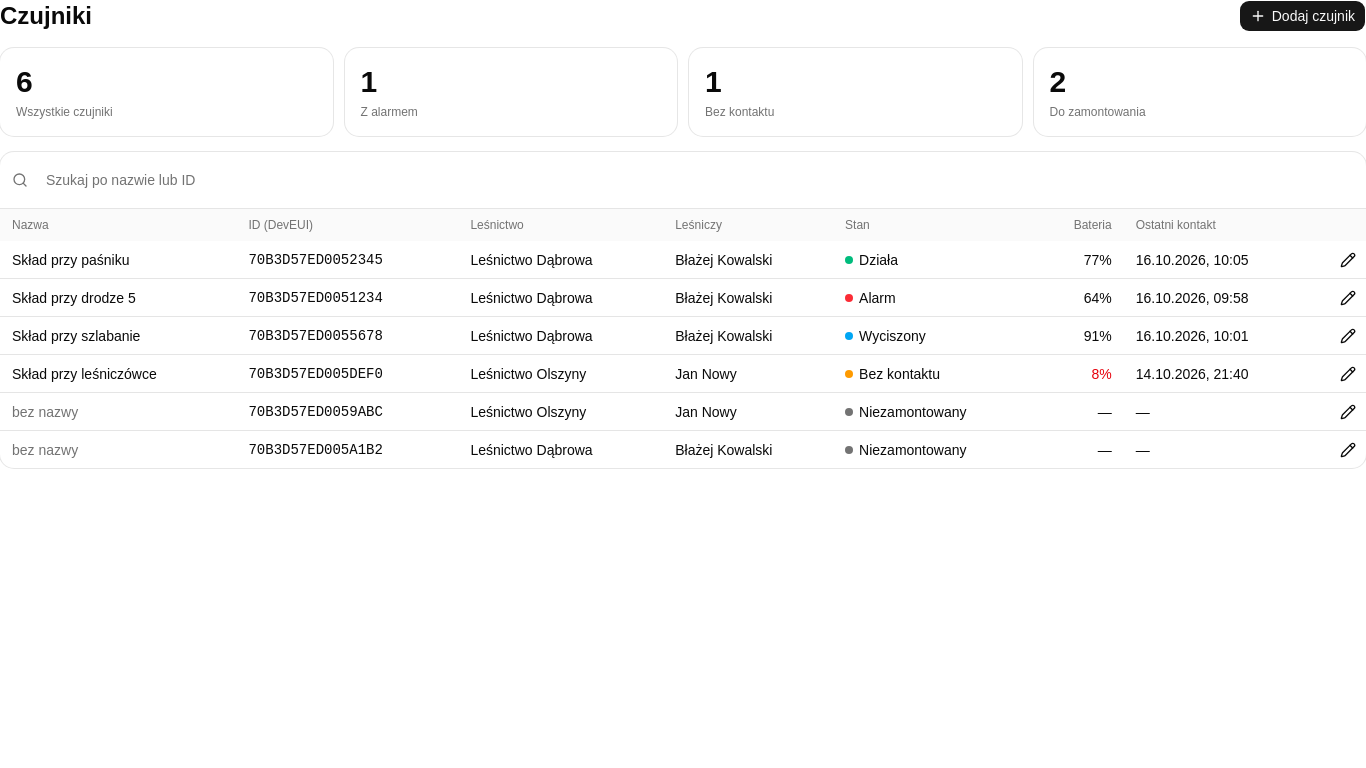
it: SensorsPage › adds a sensor: cleans up the ID, closes the panel and shows it as not mounted
Expected: the text "Skład przy drodze 5" is shown, [0, 278, 236, 316]
Click the button "Dodaj czujnik" at [1302, 16], box [1239, 0, 1365, 32]
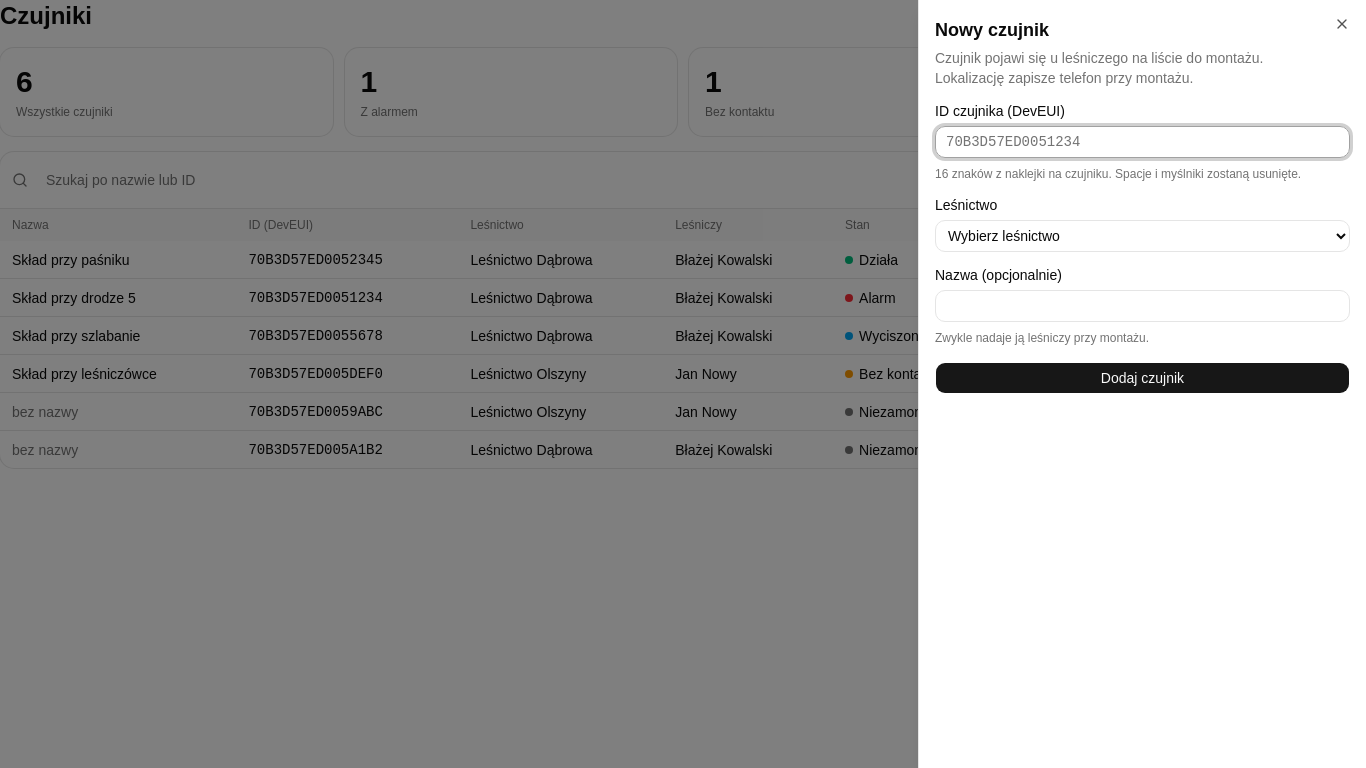
Type "70-b3-d5-7e-d0-06-00-01" into the field labelled "ID czujnika (DevEUI)" at [1142, 142], box [935, 126, 1350, 158]
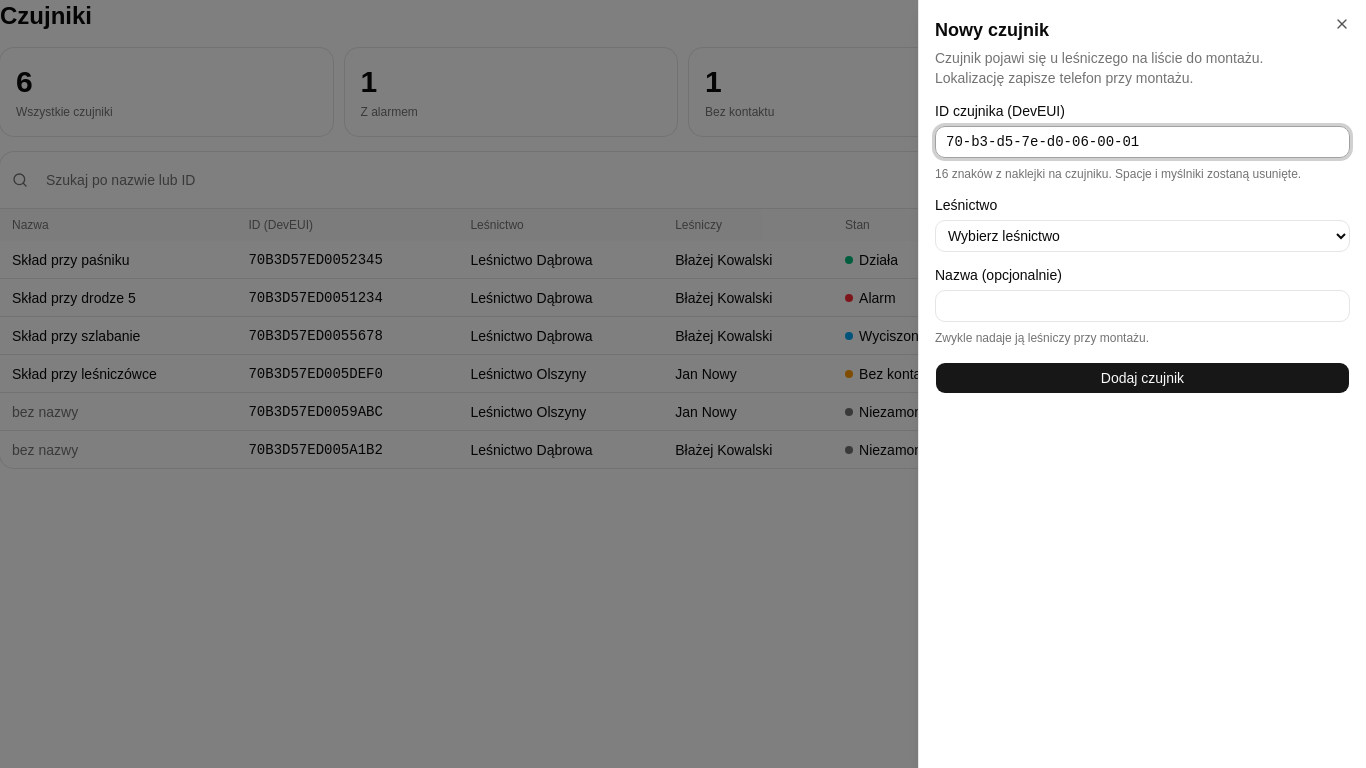
Select "Leśnictwo Olszyny · Jan Nowy" in the dropdown labelled "Leśnictwo" at [1142, 236], box [935, 220, 1350, 252]
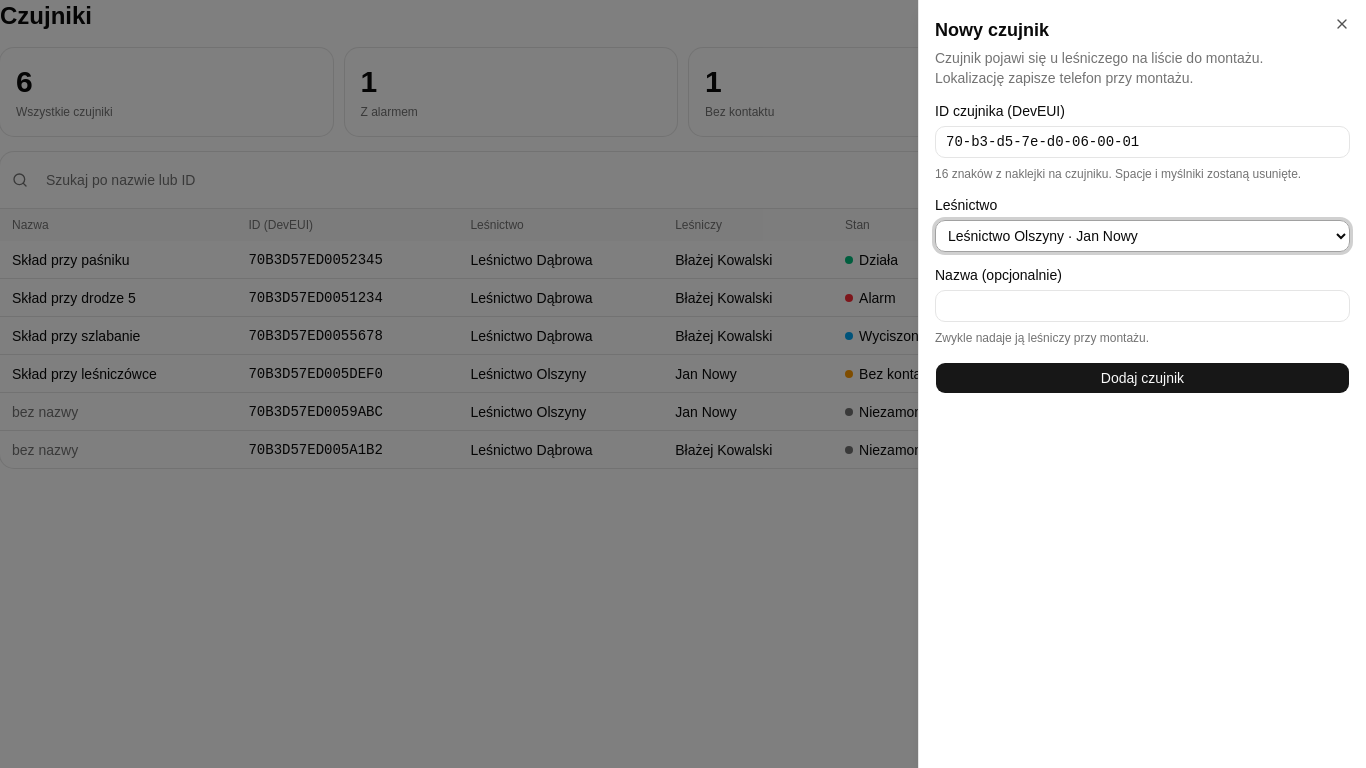
Click the button "Dodaj czujnik" at [1142, 378], box [935, 362, 1350, 394]
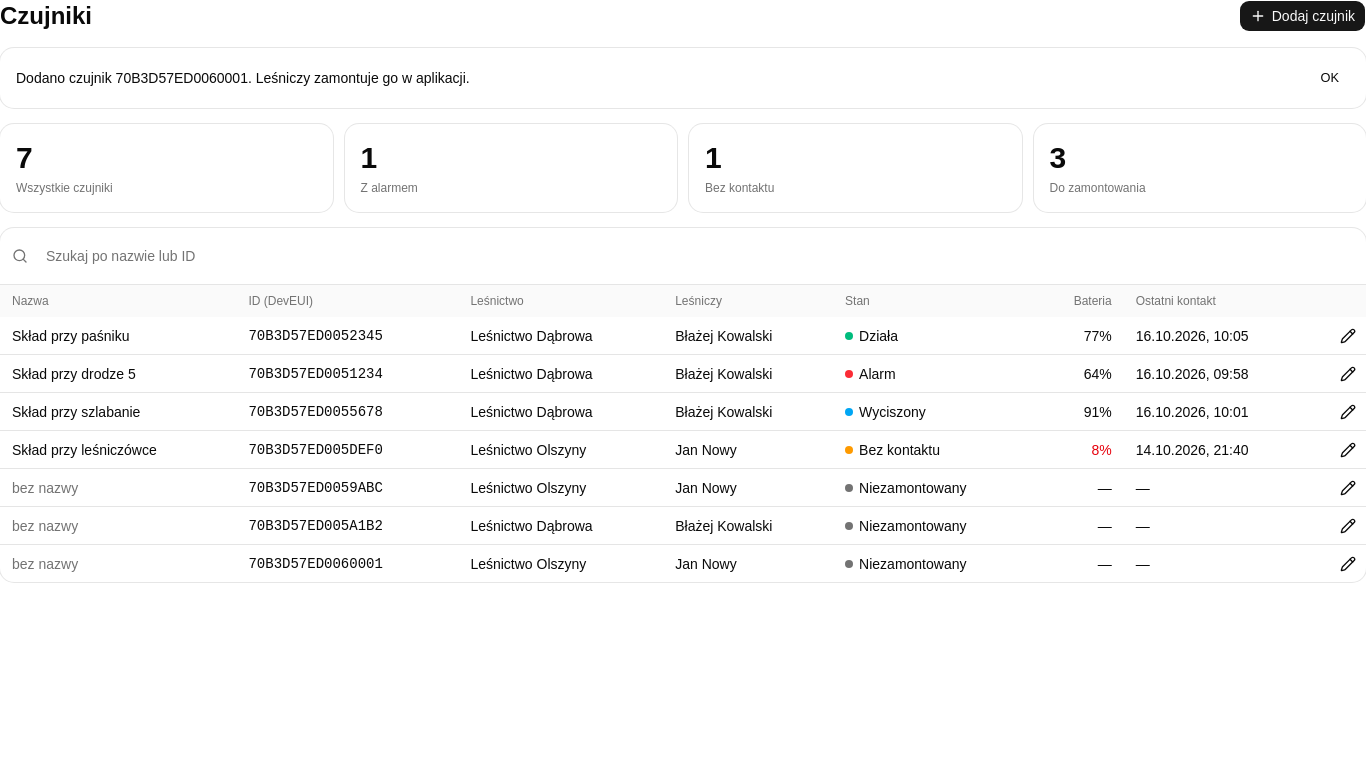
Expected: the message shows "Dodano czujnik 70B3D57ED0060001", [16, 70, 470, 86]
Expected: the dialog is gone
Expected: the 3rd text "Leśnictwo Olszyny" is shown, [458, 544, 663, 582]
